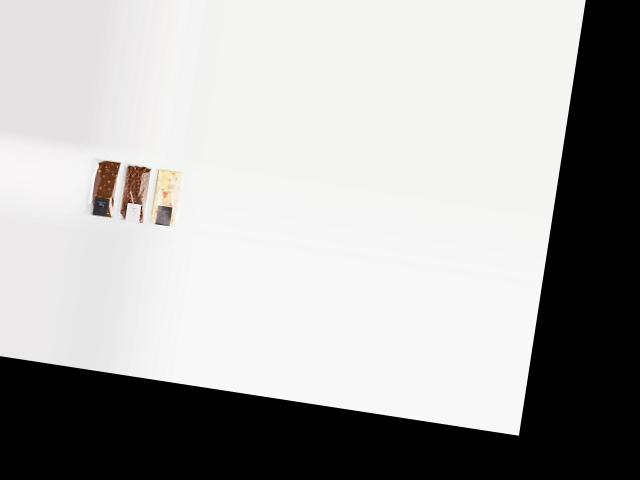chocolate: (80, 152, 123, 217)
